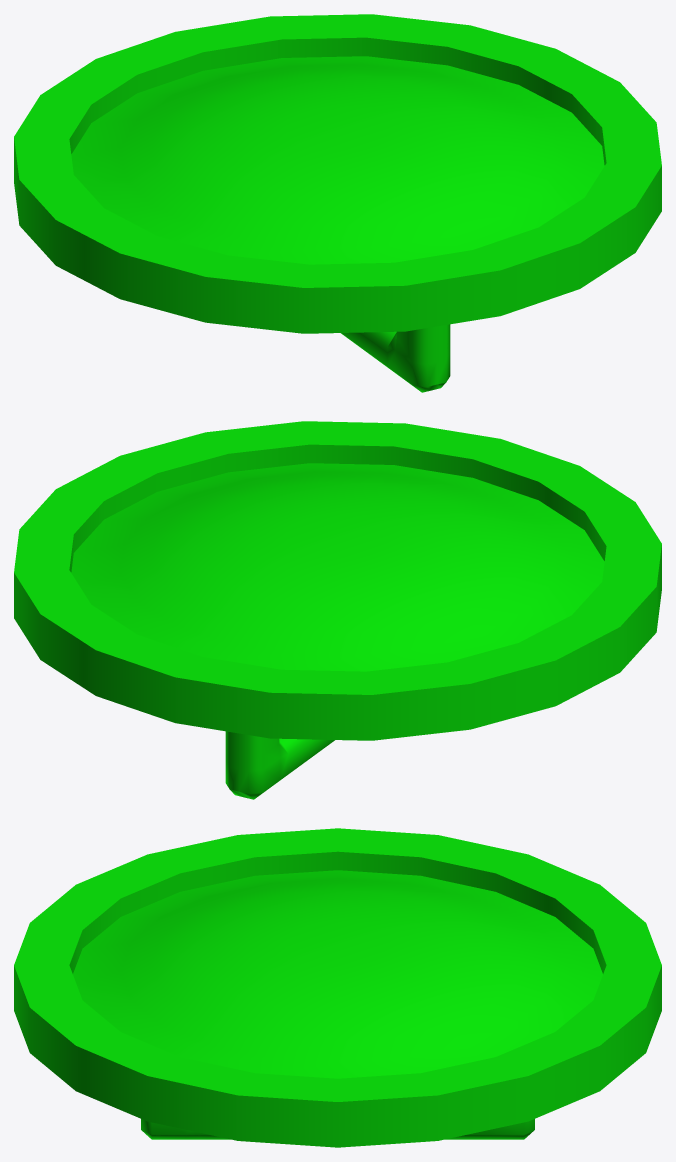
Rendered from weapon_knight_shield_mesh.fbx.
3 views of the same model, one above another, from view 1: azimuth 30°, elevation 25°; view 2: azimuth 150°, elevation 25°; view 3: azimuth 270°, elevation 25° (orthographic).
Visible parts, largest first — view 1: weapon_knight_shield_mesh; view 2: weapon_knight_shield_mesh; view 3: weapon_knight_shield_mesh.
Boxes of the visible parts, x1,y1,x2,y2 form: weapon_knight_shield_mesh: [14, 14, 661, 392]; weapon_knight_shield_mesh: [14, 421, 661, 799]; weapon_knight_shield_mesh: [14, 828, 661, 1147].
Size of the model in its own units: 80.78 by 26.41 by 80.78.
